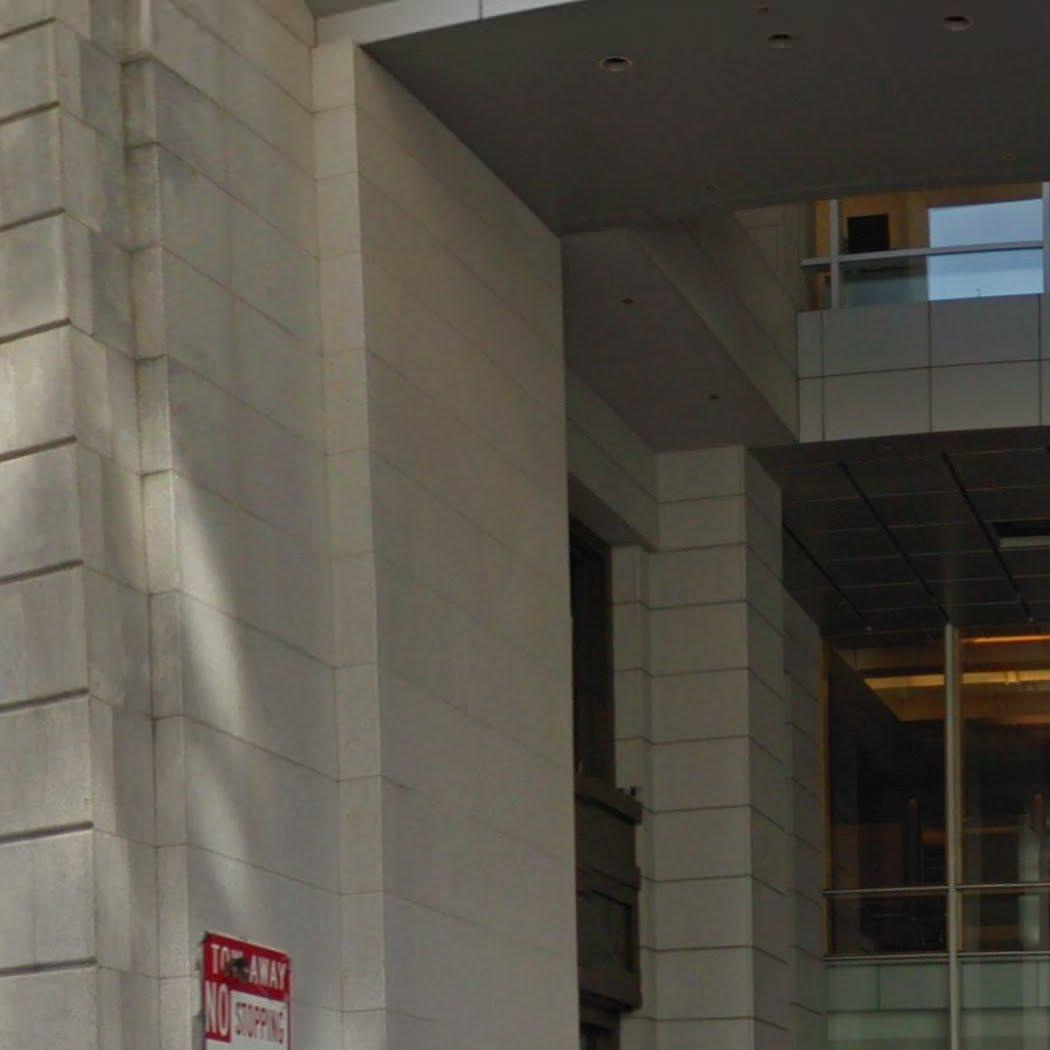No Parking: (199, 929, 294, 1050)
